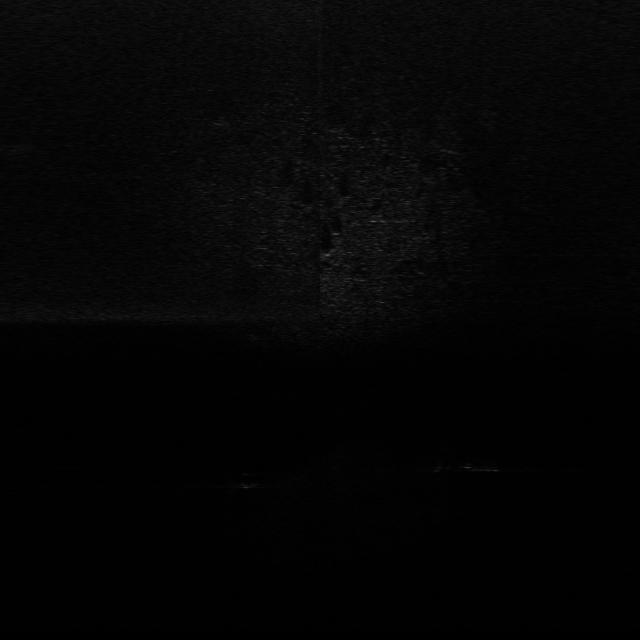ball: (228, 470, 261, 491)
human body: (413, 456, 523, 476)
